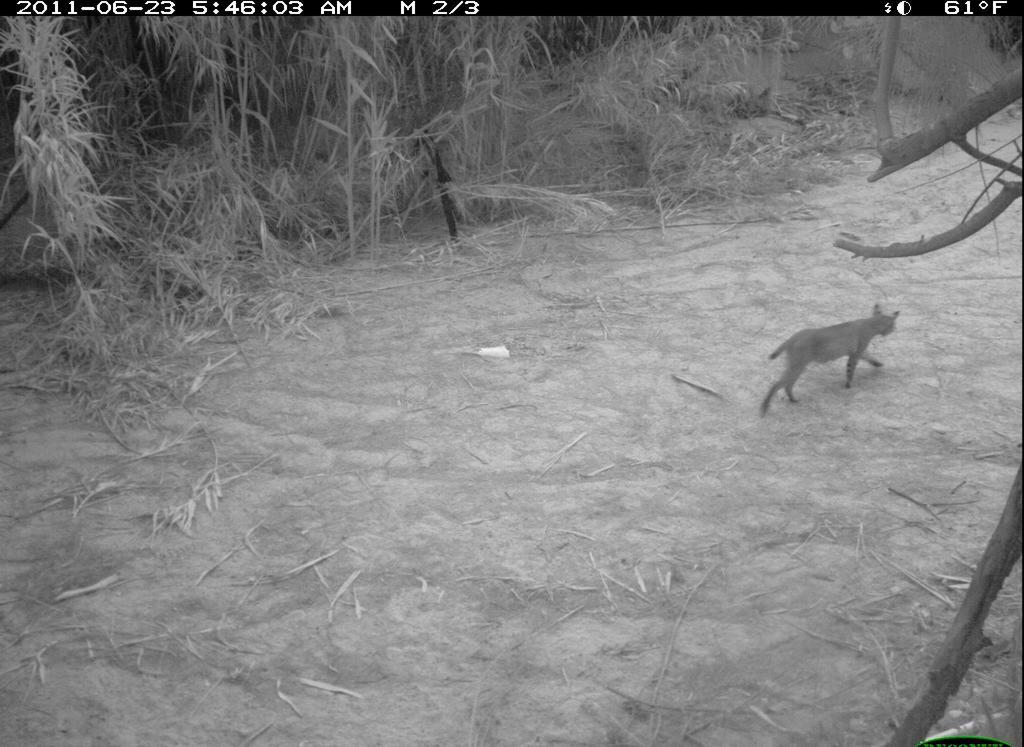bobcat: (749, 300, 905, 432)
